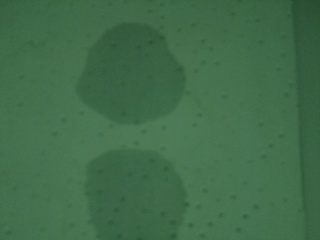Water_detected: (103, 157, 178, 236), (97, 40, 168, 104)
